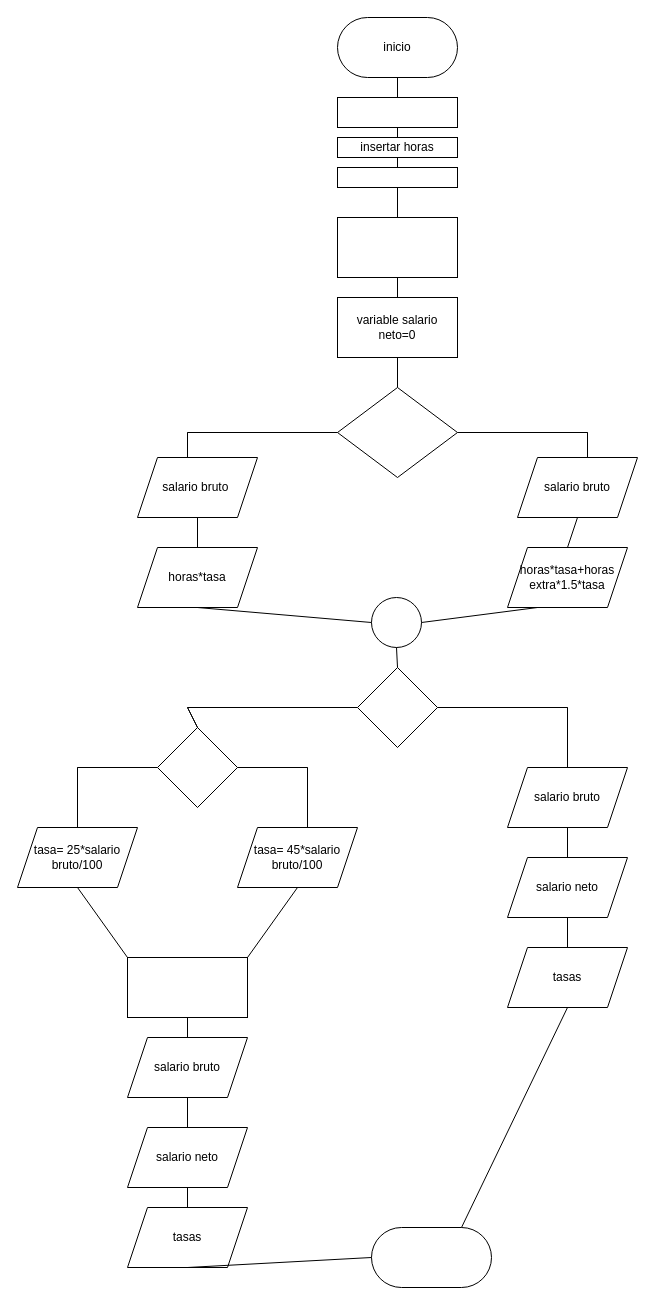
Image size: 655x1305. Some labels were removed from this diagram. Here are the shapes that lost their labels. From the top down, the box of each, then its label:
(336, 96, 458, 128): insertar nombre
(336, 166, 458, 188): insertar tasa
(336, 216, 458, 278): variable salario bruto=0
(336, 386, 458, 478): compruebo
(356, 666, 438, 748): comprobación
(156, 726, 238, 808): comprovar si 500<900
(126, 956, 248, 1018): salario neto= tasas- salario bruto
(370, 1226, 492, 1288): fin
